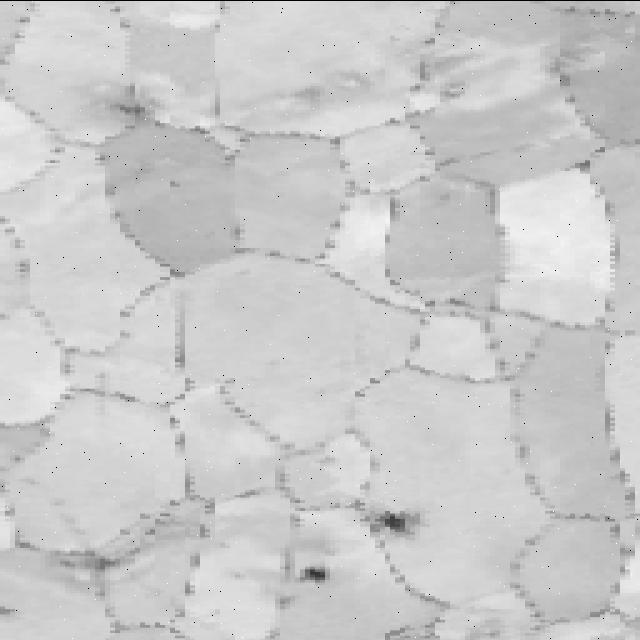good_void: (93, 74, 185, 145), (47, 542, 140, 588), (356, 505, 422, 540), (281, 561, 337, 589)
